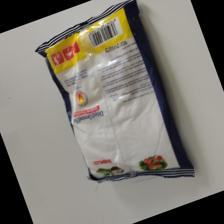Salt: (32, 1, 196, 186)
